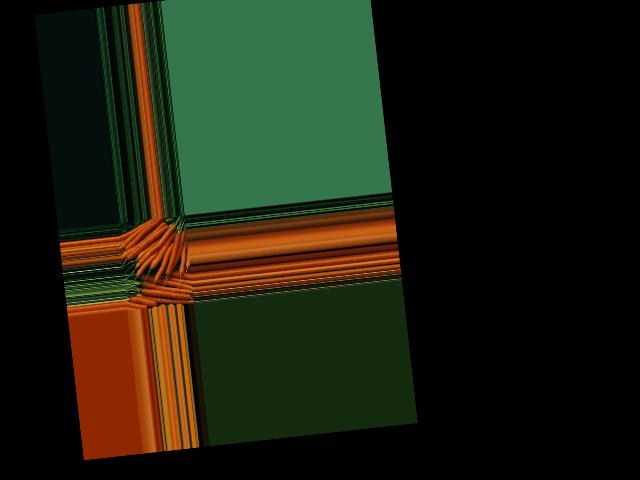carrot: (165, 231, 188, 273)
